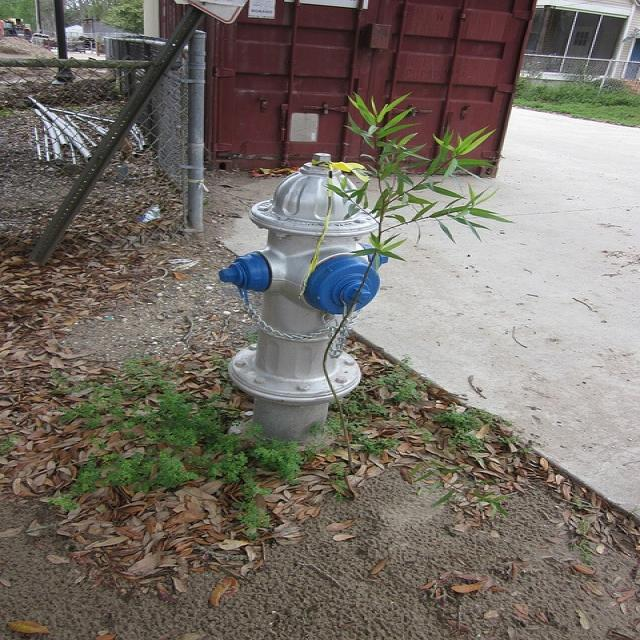fire_hydrant: (218, 153, 382, 452)
pole: (25, 3, 196, 261)
